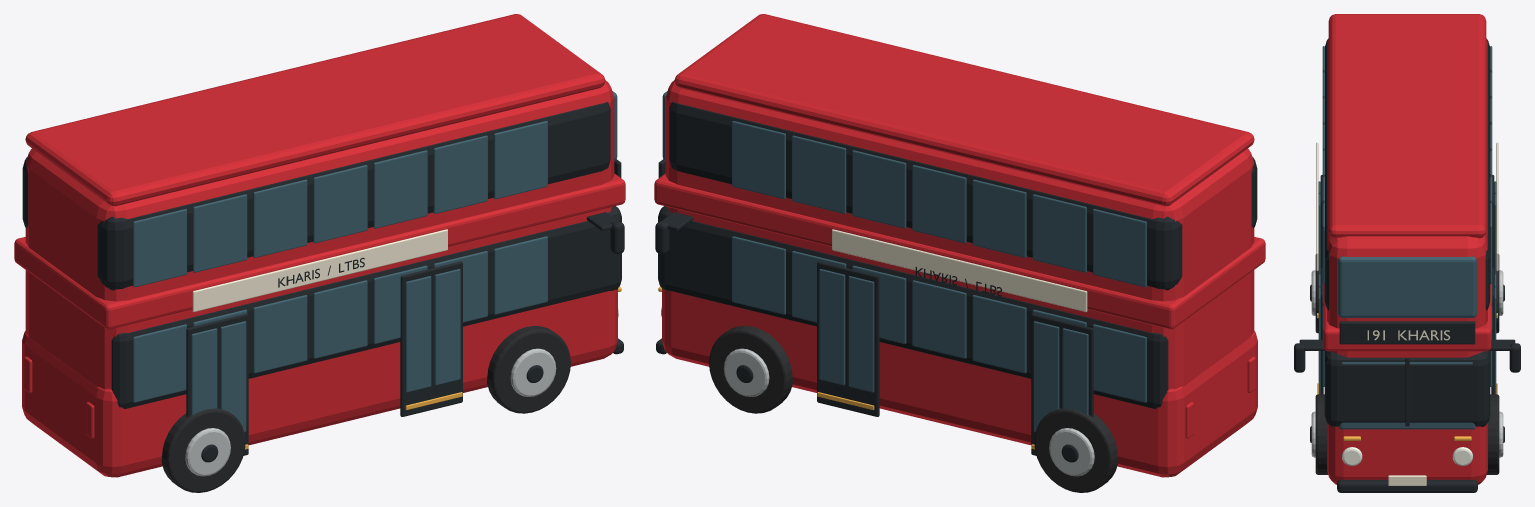
The model's file is london-bus.glb.
3 views of the same model, side by side, from view 1: azimuth 30°, elevation 25°; view 2: azimuth 150°, elevation 25°; view 3: azimuth 270°, elevation 25° (orthographic). The views are drawn at different scales.
Parts seen in each view (by area): view 1: Game mesh London vermilion coachwork, Game mesh Smoked blue panoramic glazing, Game mesh Black window surround, Game mesh Tyre rubber, Game mesh Warm white lettering, Game mesh Brushed alloy; view 2: Game mesh London vermilion coachwork, Game mesh Smoked blue panoramic glazing, Game mesh Black window surround, Game mesh Tyre rubber, Game mesh Warm white lettering, Game mesh Brushed alloy; view 3: Game mesh London vermilion coachwork, Game mesh Black window surround, Game mesh Smoked blue panoramic glazing, Game mesh Tyre rubber, Game mesh Warm white lettering, Game mesh Brushed alloy, Game mesh Headlamp lens.
Boxes of the visible parts, x1,y1,x2,y2 form: Game mesh London vermilion coachwork: (14,14,625,477); Game mesh Smoked blue panoramic glazing: (133,91,617,431); Game mesh Black window surround: (22,102,624,462); Game mesh Tyre rubber: (161,325,570,492); Game mesh Warm white lettering: (192,229,447,311); Game mesh Brushed alloy: (185,348,556,476); Game mesh London vermilion coachwork: (654,14,1265,477); Game mesh Smoked blue panoramic glazing: (662,91,1146,431); Game mesh Black window surround: (655,102,1257,462); Game mesh Tyre rubber: (709,325,1118,492); Game mesh Warm white lettering: (832,229,1087,311); Game mesh Brushed alloy: (723,348,1094,476); Game mesh London vermilion coachwork: (1323,14,1491,484); Game mesh Black window surround: (1294,38,1520,492); Game mesh Smoked blue panoramic glazing: (1318,46,1496,429); Game mesh Tyre rubber: (1315,254,1499,474); Game mesh Warm white lettering: (1316,142,1498,485); Game mesh Brushed alloy: (1311,270,1503,457); Game mesh Headlamp lens: (1342,447,1472,466).
Size of the model in its own units: 5.83 by 3.29 by 2.42.
